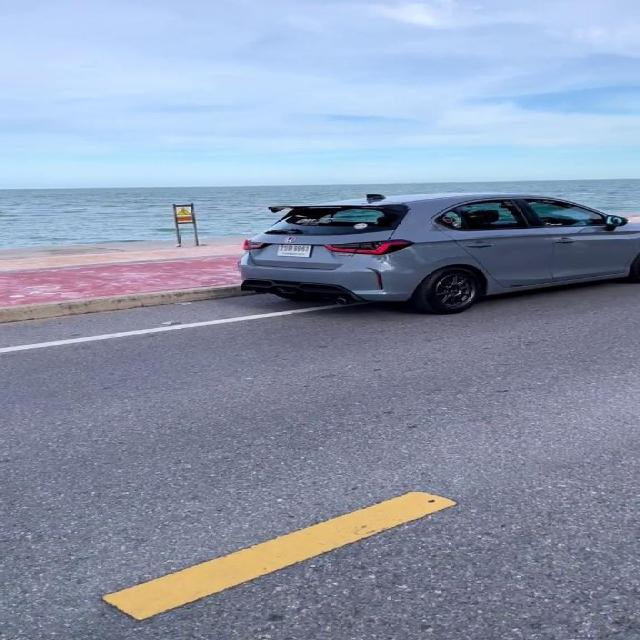Hatchback: (238, 192, 639, 314)
